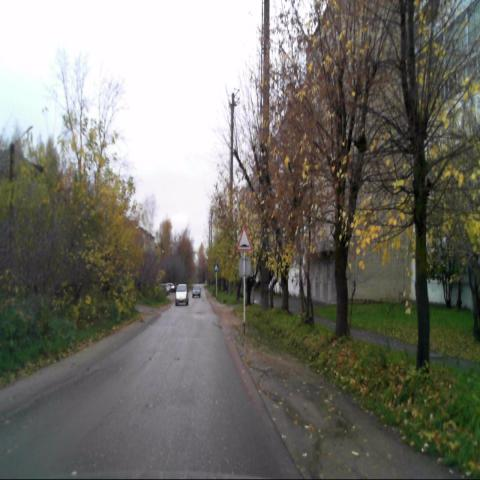1_17: (237, 226, 252, 250)
